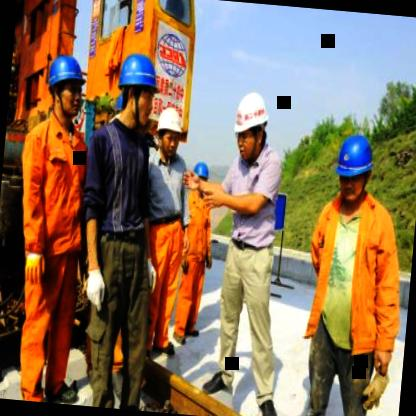helmet: (110, 48, 164, 132), (331, 128, 378, 208), (230, 82, 274, 166), (42, 50, 91, 122), (152, 104, 187, 160), (190, 157, 214, 195)
